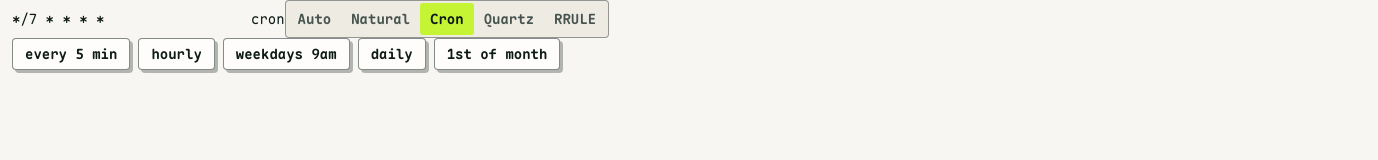
ScheduleSyntaxToggle › still switches syntax and warns when the text cannot be converted
The image size is (1378, 160).
Click the radio button labelled "Quartz" at (509, 19), box [484,10,534,28]
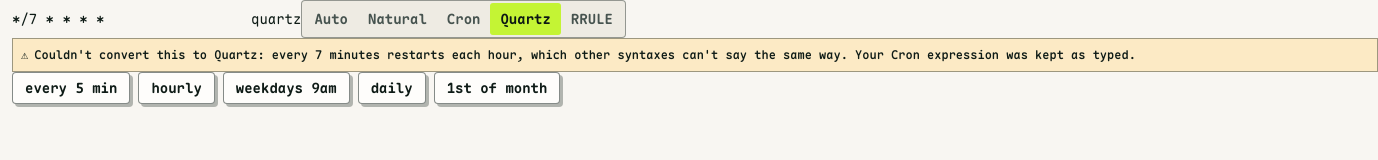
Expected: the field named "expr" holds "*/7 * * * *", [12,8,251,31]
Expected: the text named "mode" reads "quartz", [251,10,301,28]
Expected: the message with test id "schedule-notice" shows "Couldn't convert this to Quartz: every 7 minutes restarts each hour", [34,47,1136,63]
